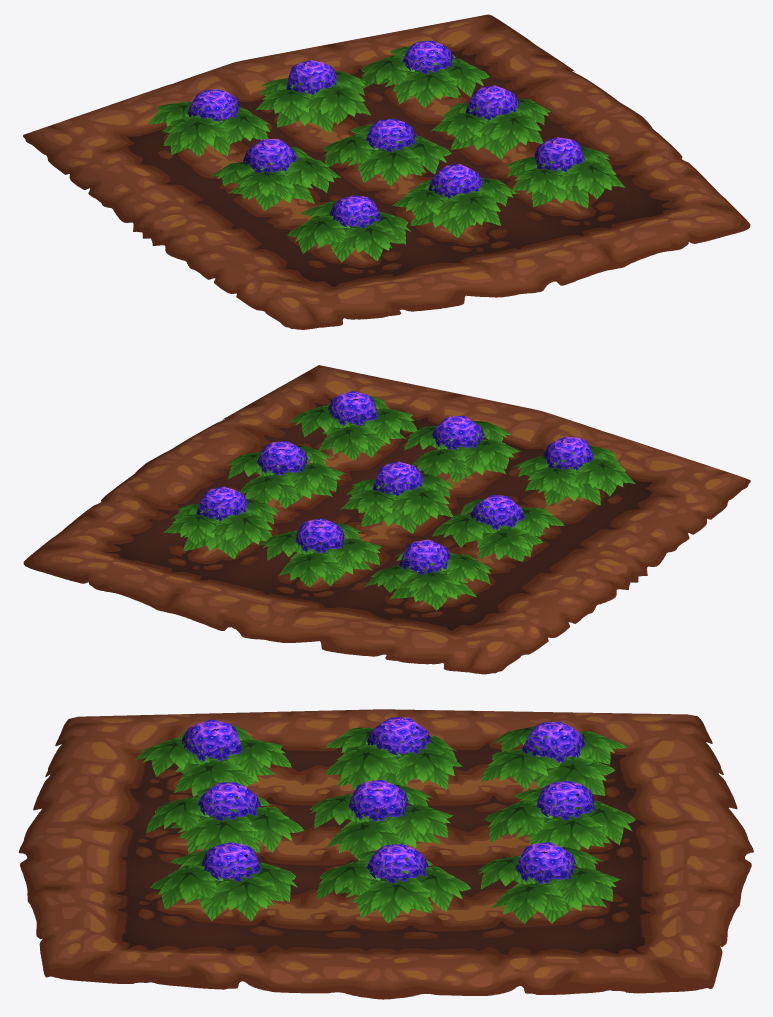
File: Hydrangea_Field_Lv2.FBX
3 views of the same model, one above another, from view 1: azimuth 30°, elevation 25°; view 2: azimuth 150°, elevation 25°; view 3: azimuth 270°, elevation 25° (orthographic). The views are drawn at different scales.
Visible parts, largest first — view 1: Hydrangea_Field_Lv2; view 2: Hydrangea_Field_Lv2; view 3: Hydrangea_Field_Lv2.
Boxes of the visible parts, x1,y1,x2,y2 form: Hydrangea_Field_Lv2: (23, 14, 750, 329); Hydrangea_Field_Lv2: (23, 365, 750, 674); Hydrangea_Field_Lv2: (18, 709, 753, 999).
Size of the model in its own units: 274 by 30.59 by 296.
